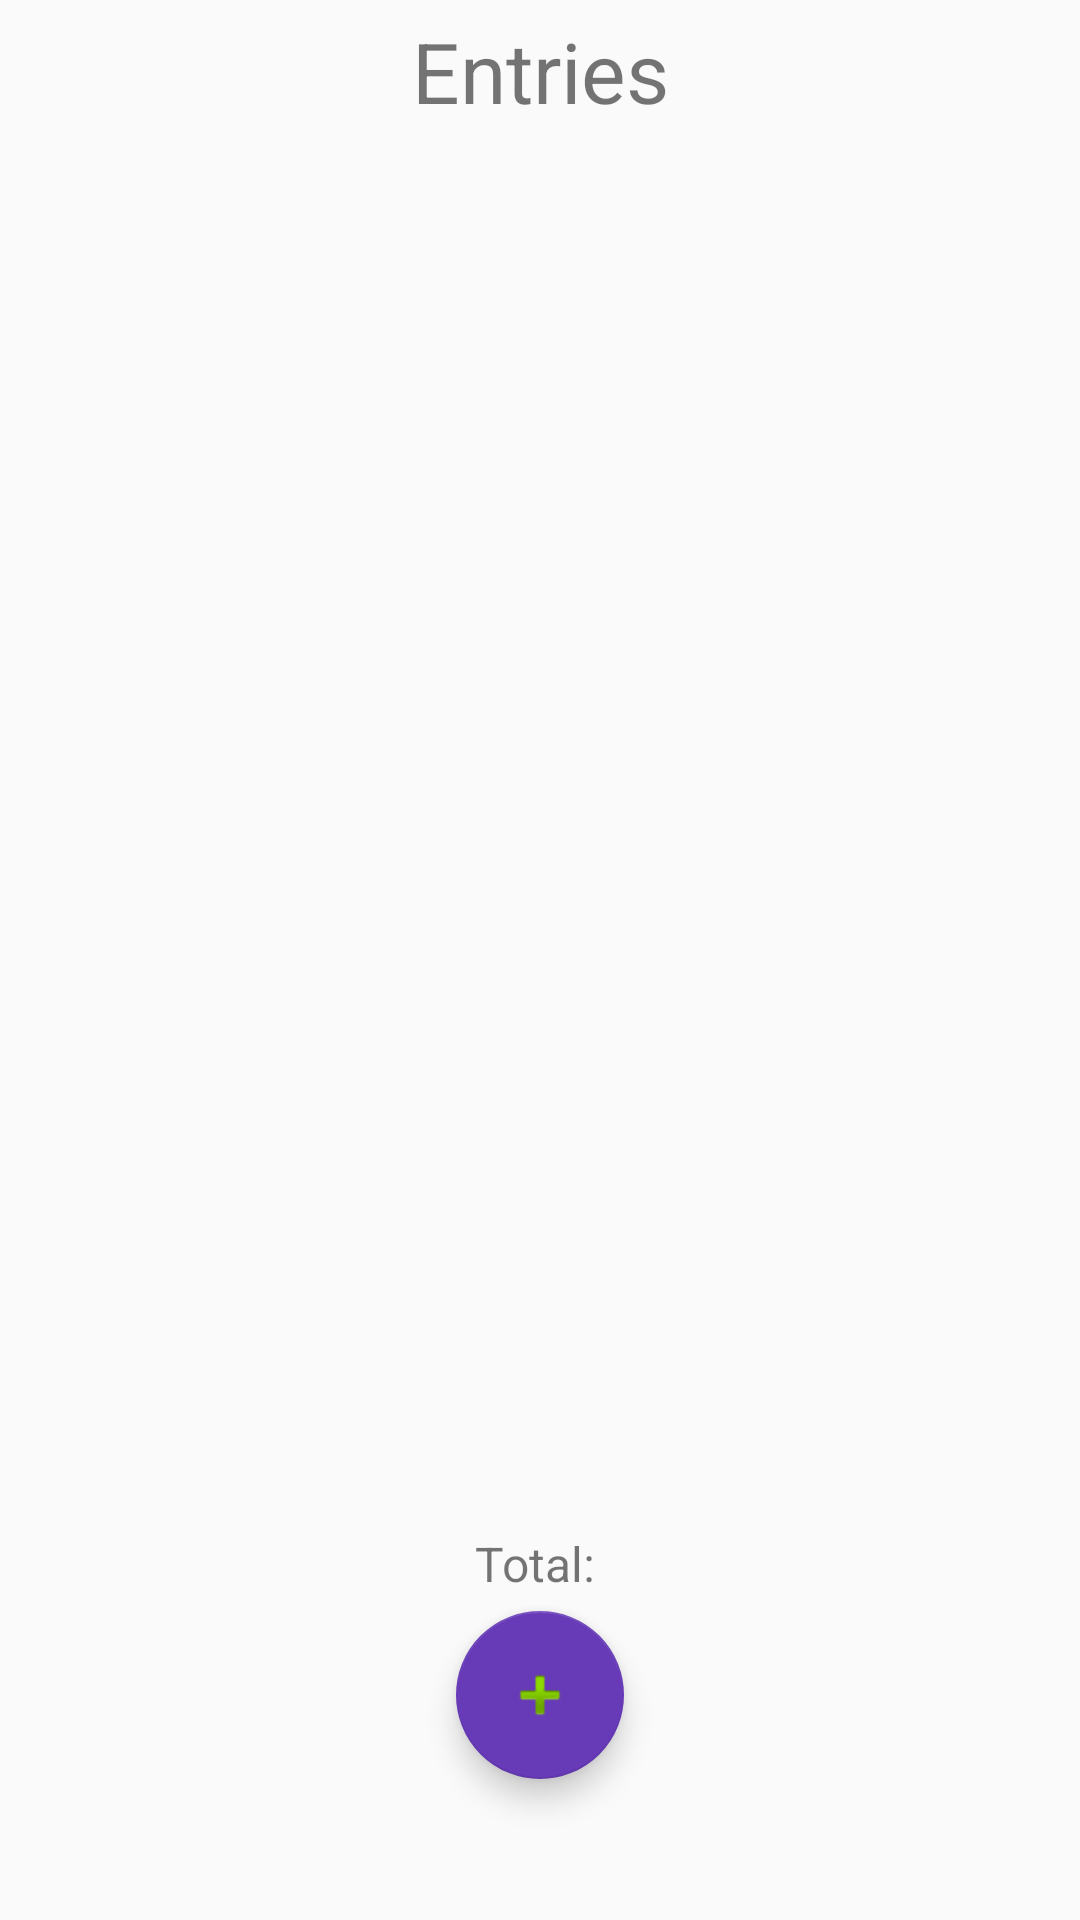

Where to tap for icons on this 1080 x 1920 app screen, as point (x, y):
add: point (540, 1695)
